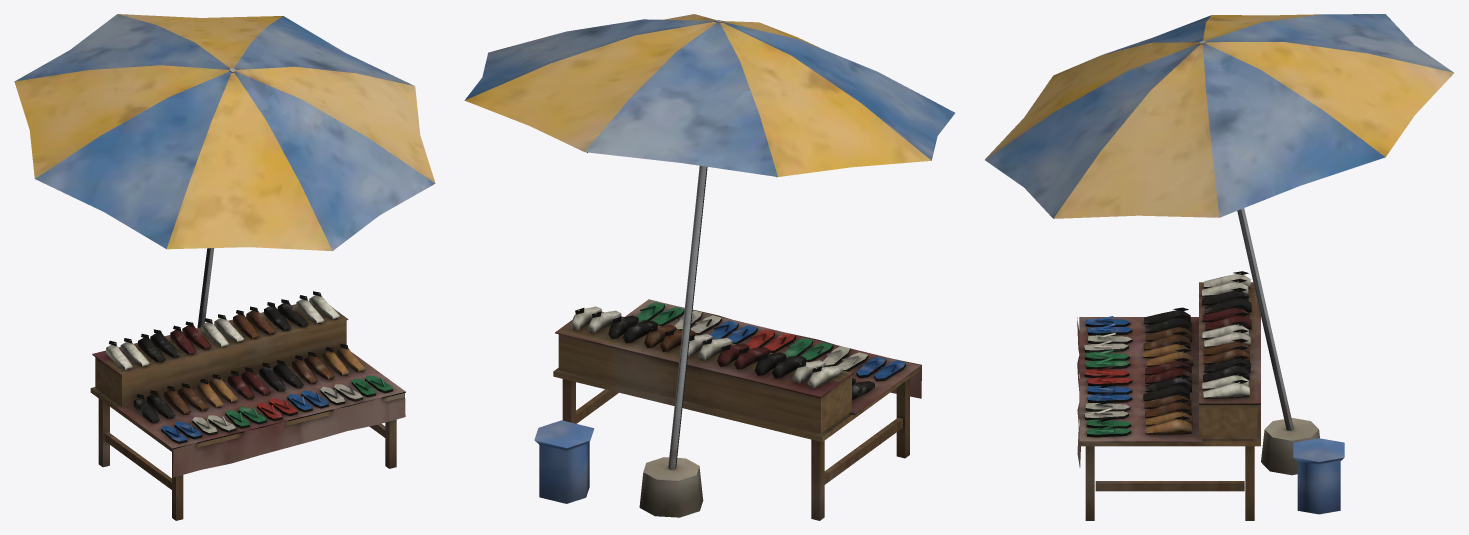
Rendered from shoe_stall.glb.
3 views of the same model, side by side, from view 1: azimuth 30°, elevation 25°; view 2: azimuth 150°, elevation 25°; view 3: azimuth 270°, elevation 25° (orthographic). The views are drawn at different scales.
Visible parts, largest first — view 1: body; view 2: body; view 3: body.
Part boxes in pixels (x1,y1,x2,y2): body: [14, 14, 435, 520]; body: [464, 14, 954, 520]; body: [985, 14, 1453, 520].
Size of the model in its own units: 2.64 by 2.55 by 2.59.
Materials: 1 (1 with a texture image).
